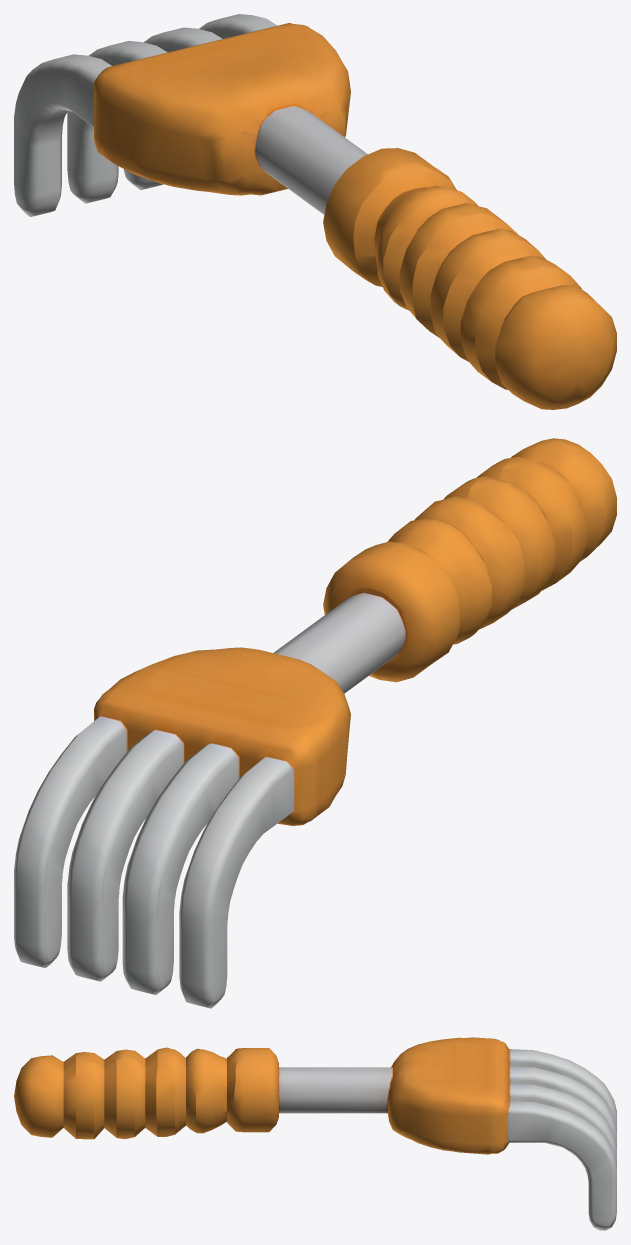
The model's file is base_basic_pbr.fbx.
3 views of the same model, one above another, from view 1: azimuth 30°, elevation 25°; view 2: azimuth 150°, elevation 25°; view 3: azimuth 270°, elevation 25° (orthographic). The views are drawn at different scales.
Visible parts, largest first — view 1: model; view 2: model; view 3: model.
Part boxes in pixels (bbox=[...]): model: bbox=[14, 14, 616, 409]; model: bbox=[14, 438, 616, 1008]; model: bbox=[14, 1037, 616, 1230].
Bounding box in the file's own units: 51.13 × 52.3 × 190.
1 material, 1 textured.
